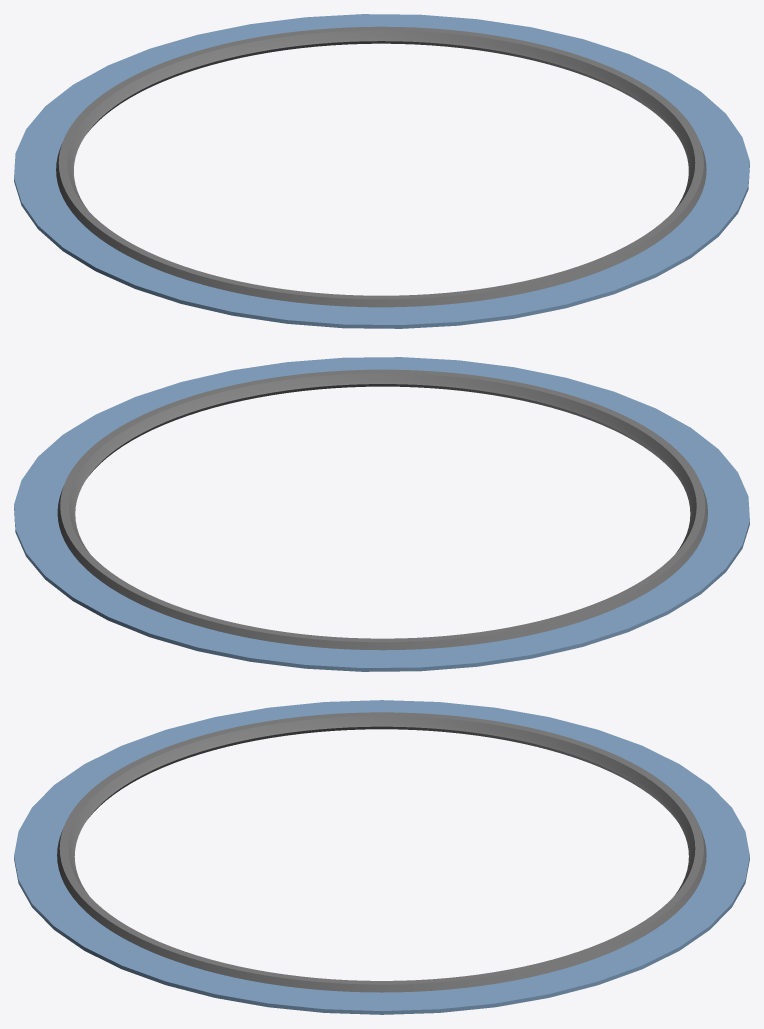
The model's file is SM_LampRing.FBX.
The picture shows the model from 3 angles, top to bottom: view 1: azimuth 30°, elevation 25°; view 2: azimuth 150°, elevation 25°; view 3: azimuth 270°, elevation 25°; orthographic projection.
Visible parts, largest first — view 1: SM_LampRing; view 2: SM_LampRing; view 3: SM_LampRing.
Part boxes in pixels (x1,y1,x2,y2): SM_LampRing: (14, 14, 749, 328); SM_LampRing: (14, 357, 749, 671); SM_LampRing: (14, 700, 749, 1014).
Size of the model in its own units: 938 by 16.25 by 938.
